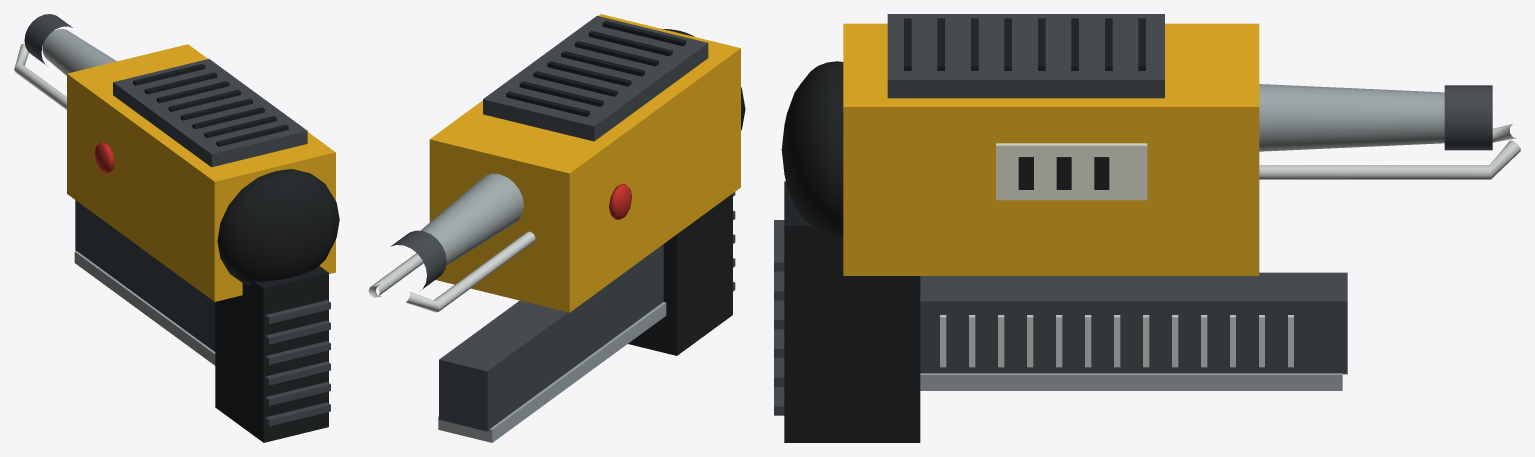
File: nail_gun.glb
The picture shows the model from 3 angles, left to right: view 1: azimuth 30°, elevation 25°; view 2: azimuth 150°, elevation 25°; view 3: azimuth 270°, elevation 25°; orthographic projection. The views are drawn at different scales.
Visible parts, largest first — view 1: MWC_nail_gun; view 2: MWC_nail_gun; view 3: MWC_nail_gun.
Boxes of the visible parts, bbox=[...] form: MWC_nail_gun: bbox=[14, 14, 339, 442]; MWC_nail_gun: bbox=[368, 14, 745, 442]; MWC_nail_gun: bbox=[774, 14, 1520, 442].
Bounding box in the file's own units: 0.087 × 0.1655 × 0.2962.
1 material, 1 textured.
